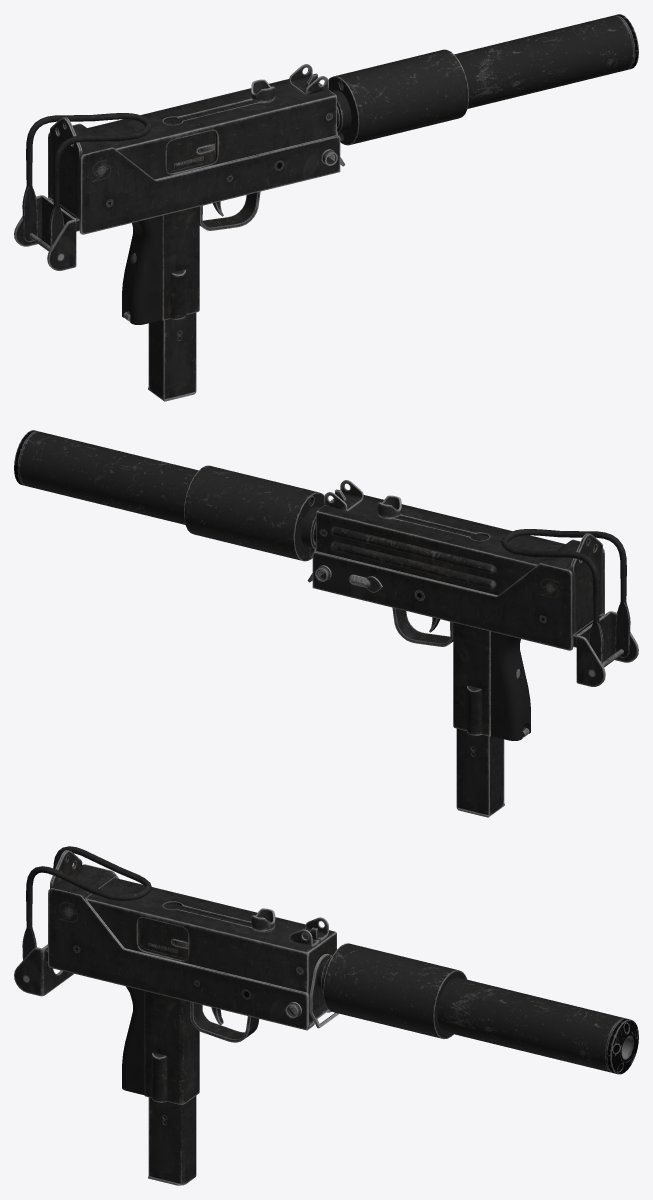
The model's file is dualmac.glb.
3 renders of one model, top to bottom at view 1: azimuth 30°, elevation 25°; view 2: azimuth 150°, elevation 25°; view 3: azimuth 330°, elevation 25°, orthographic.
Visible parts, largest first — view 1: base, silencer, mag, base_4, base_3, base_5; view 2: base, silencer, mag, base_4, base_3; view 3: base, silencer, mag, base_4, base_3, base_5, bolt.
Boxes of the visible parts, x1,y1,x2,y2 form: base: [48, 64, 345, 324]; silencer: [328, 14, 638, 145]; mag: [148, 312, 196, 401]; base_4: [22, 113, 151, 251]; base_3: [14, 195, 79, 270]; base_5: [166, 130, 215, 172]; base: [307, 480, 604, 740]; silencer: [14, 430, 324, 561]; mag: [456, 728, 504, 817]; base_4: [501, 529, 630, 667]; base_3: [573, 611, 638, 686]; base: [48, 850, 339, 1104]; silencer: [321, 943, 638, 1074]; mag: [148, 1096, 196, 1185]; base_4: [22, 846, 151, 959]; base_3: [14, 944, 74, 996]; base_5: [139, 918, 188, 959]; bolt: [251, 908, 275, 931].
Bounding box in the file's own units: 0.5146 × 0.2465 × 0.0596.
3 materials, 3 textured.
